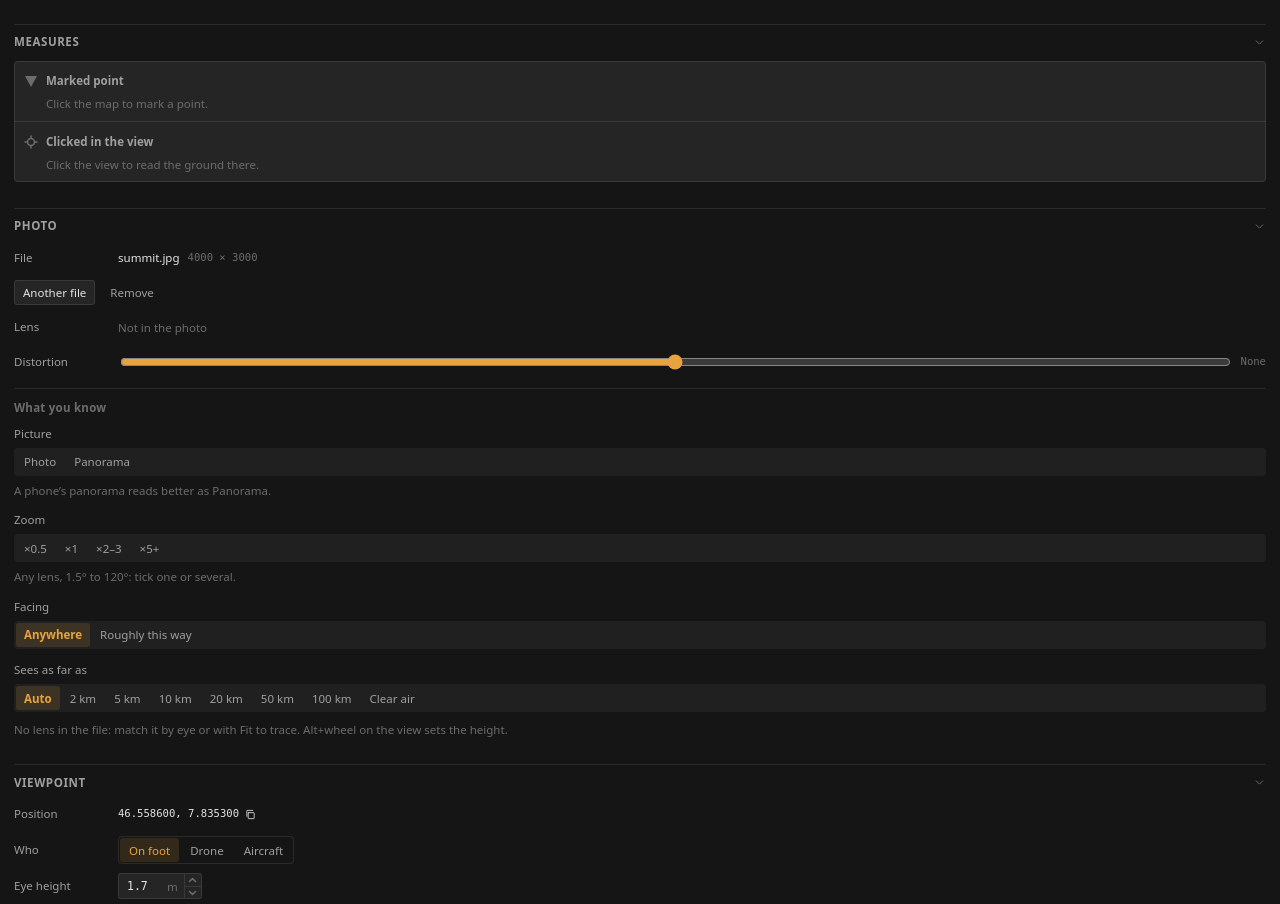
Test: a photo laid over the view, in the inspector › asks what kind of picture it is only when it may be a panorama, and says what a panorama is searched across
Expected: the element named "What you know about the photo" does not show "Picture"
Expected: the element named "What you know about the photo" does not show "reads better as Panorama"
Click the radio button labelled "Panorama".
click(102, 462)  # box [66, 450, 138, 474]
(page scrolled)
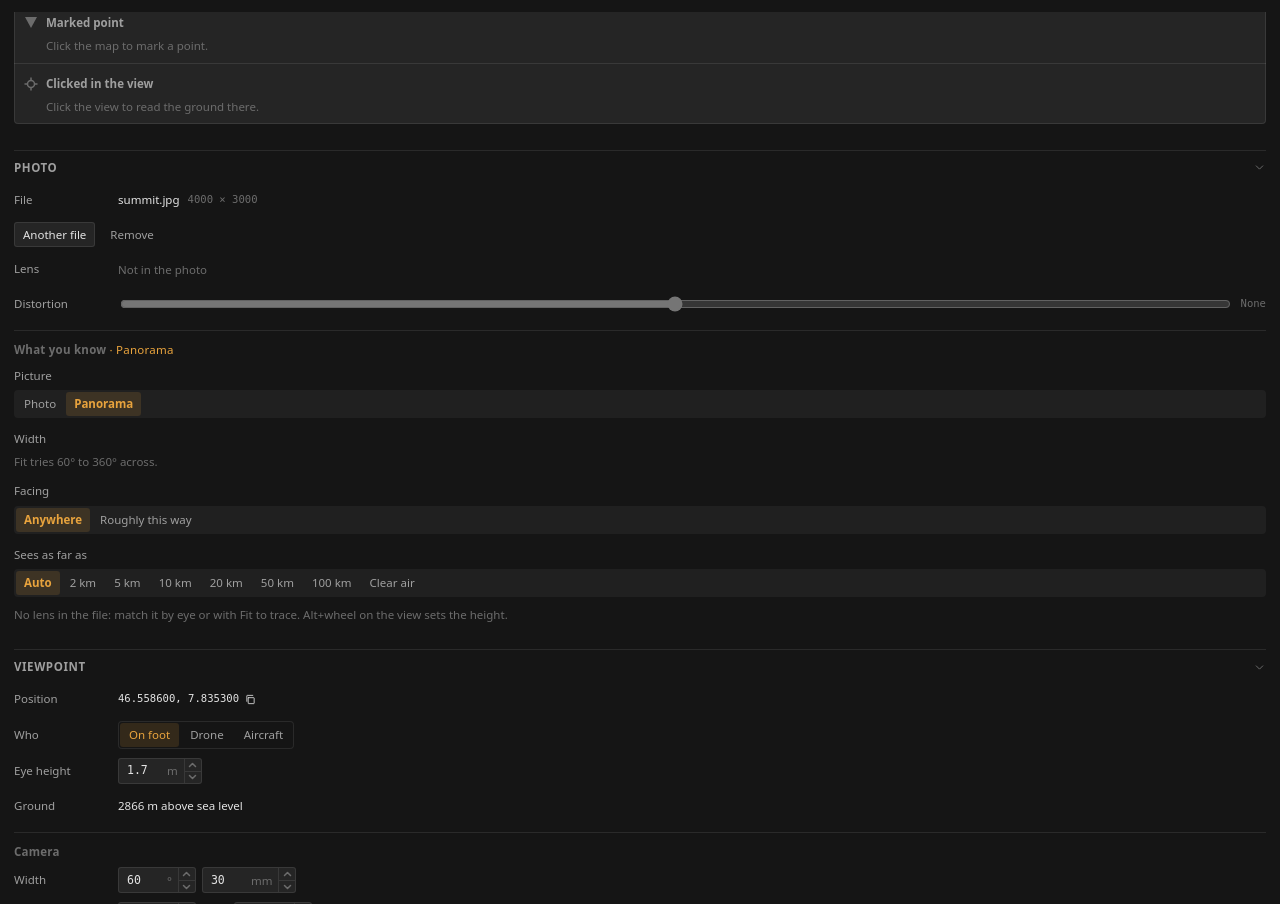
Expected: the element named "What you know about the photo" does not show "×2–3"
Now the element named "What you know about the photo" shows "Fit tries 60° to 360° across.", box [14, 454, 158, 469]
